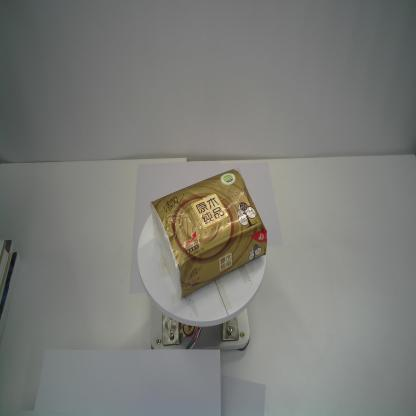Tissue: (150, 168, 268, 300)
